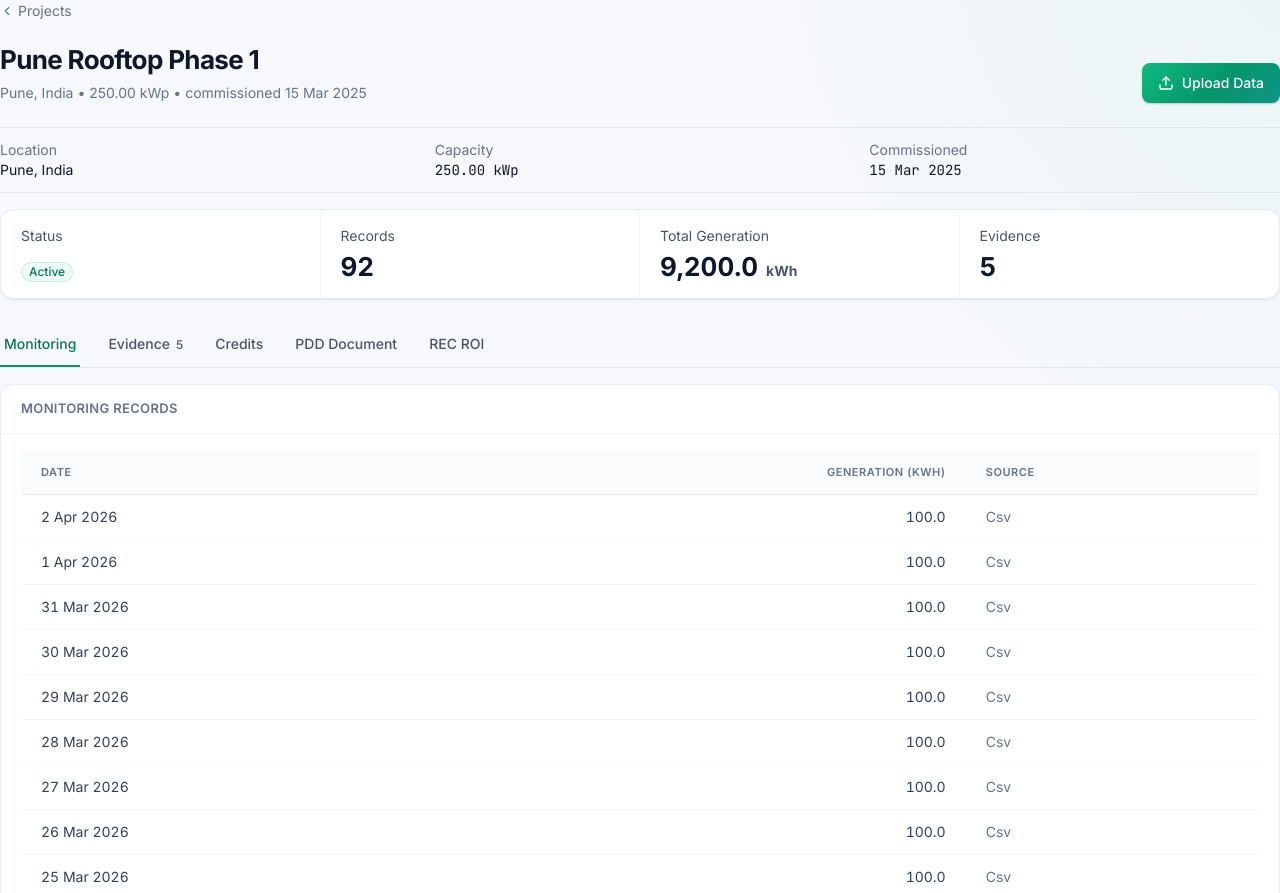
Scenario: ProjectDetail — REC ROI tab › is reachable by clicking the tab
Click the tab "REC ROI" at {"x": 457, "y": 345}, box [425,323,488,367]
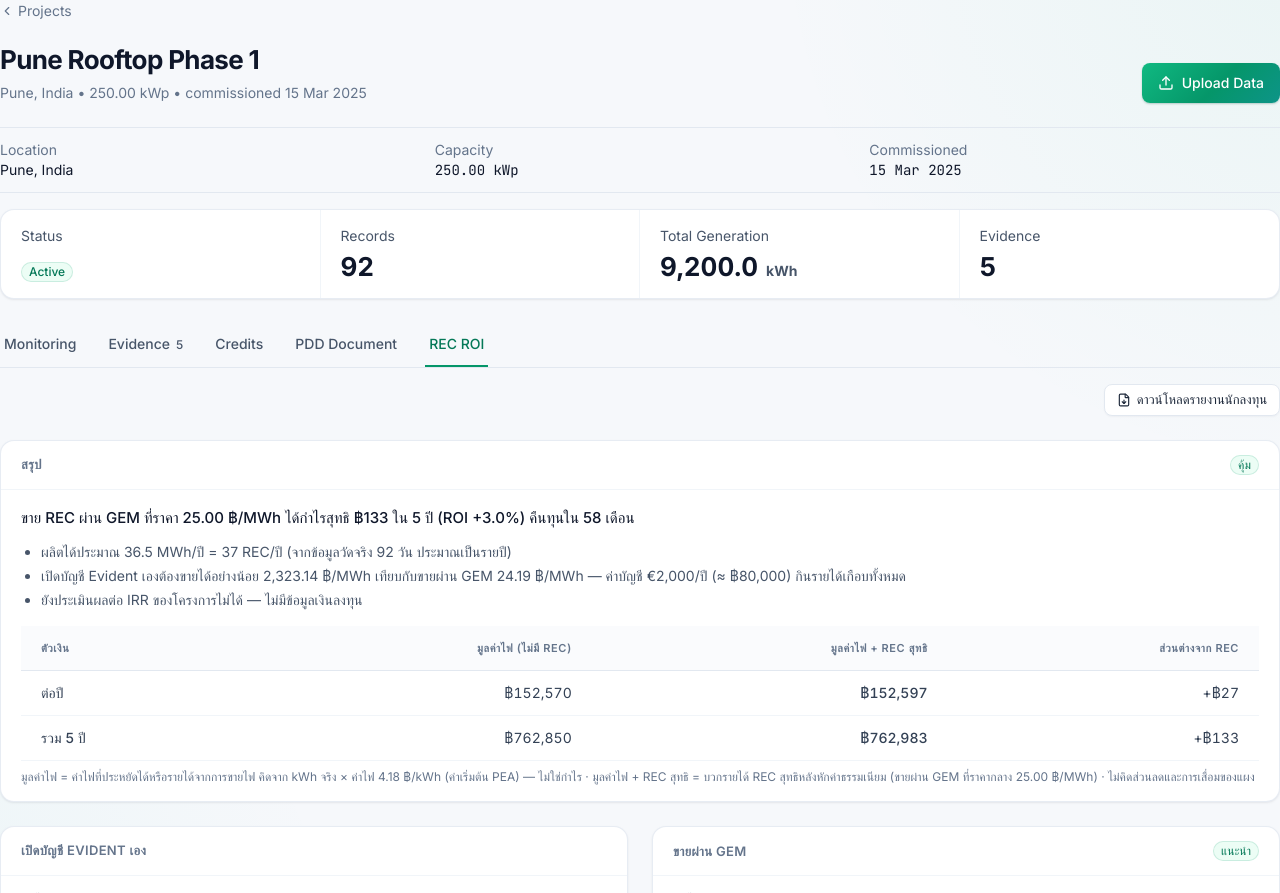
Check: the heading "ขายผ่าน GEM" is shown, box [673,842,747,861]
